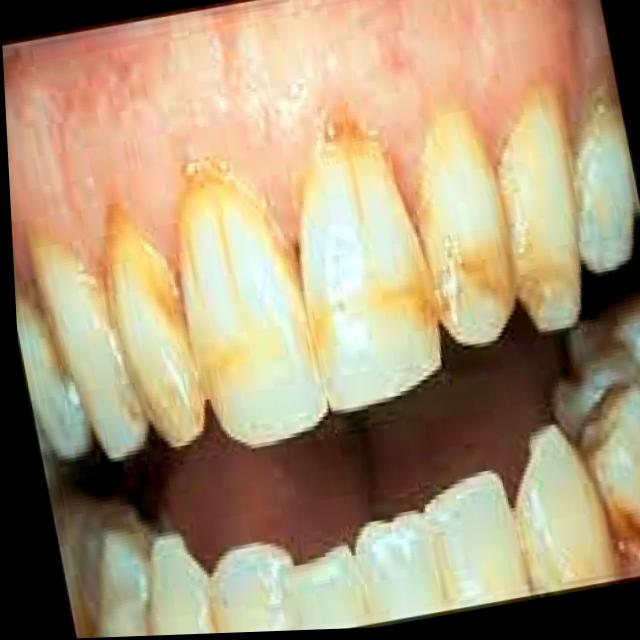tooth-discoloration: (552, 292, 640, 564), (105, 207, 203, 444), (497, 88, 580, 329)
